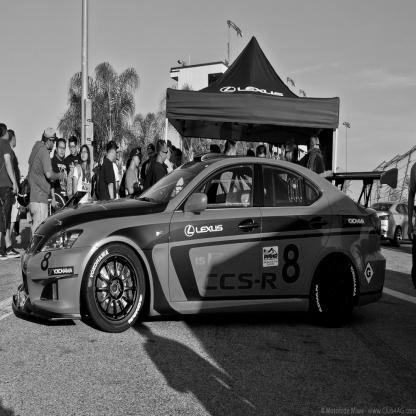car: (25, 146, 391, 343)
